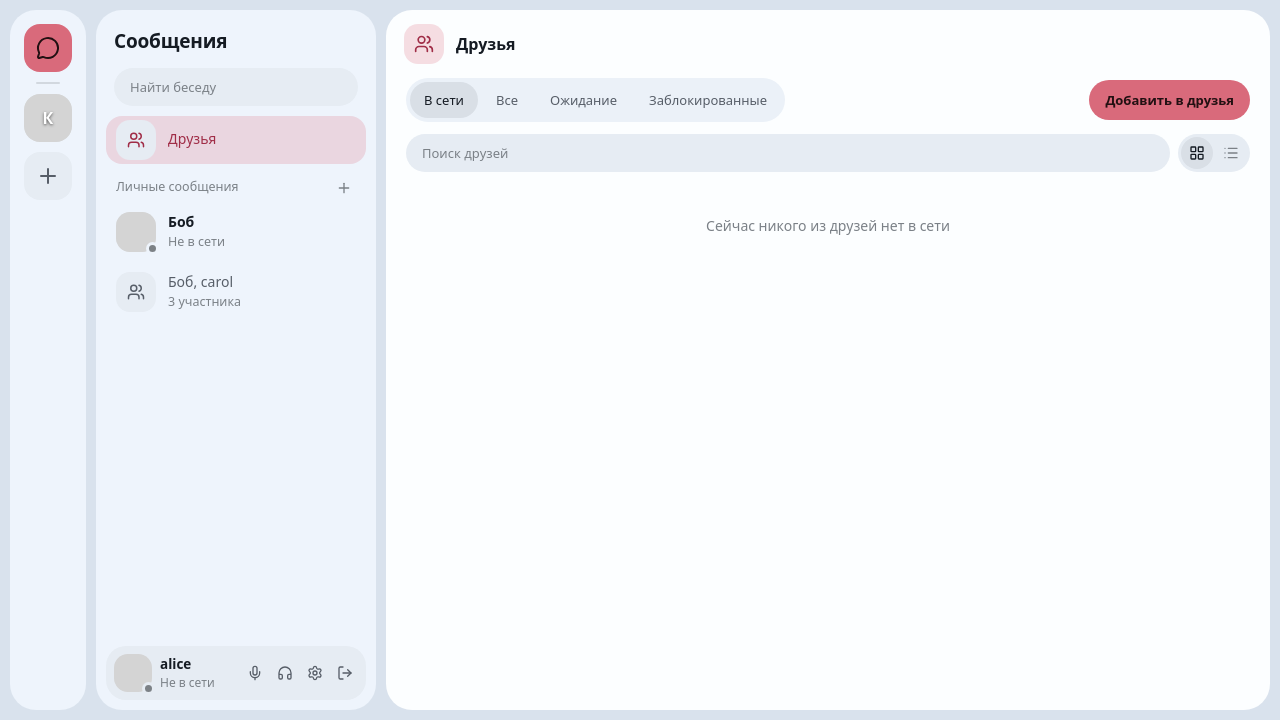
Test case: starting an encrypted conversation › opens nothing when the server answers with a plain one
The image size is (1280, 720).
Click the button named "Создать группу" at (344, 188), box x1=332 y1=176 x2=356 y2=200
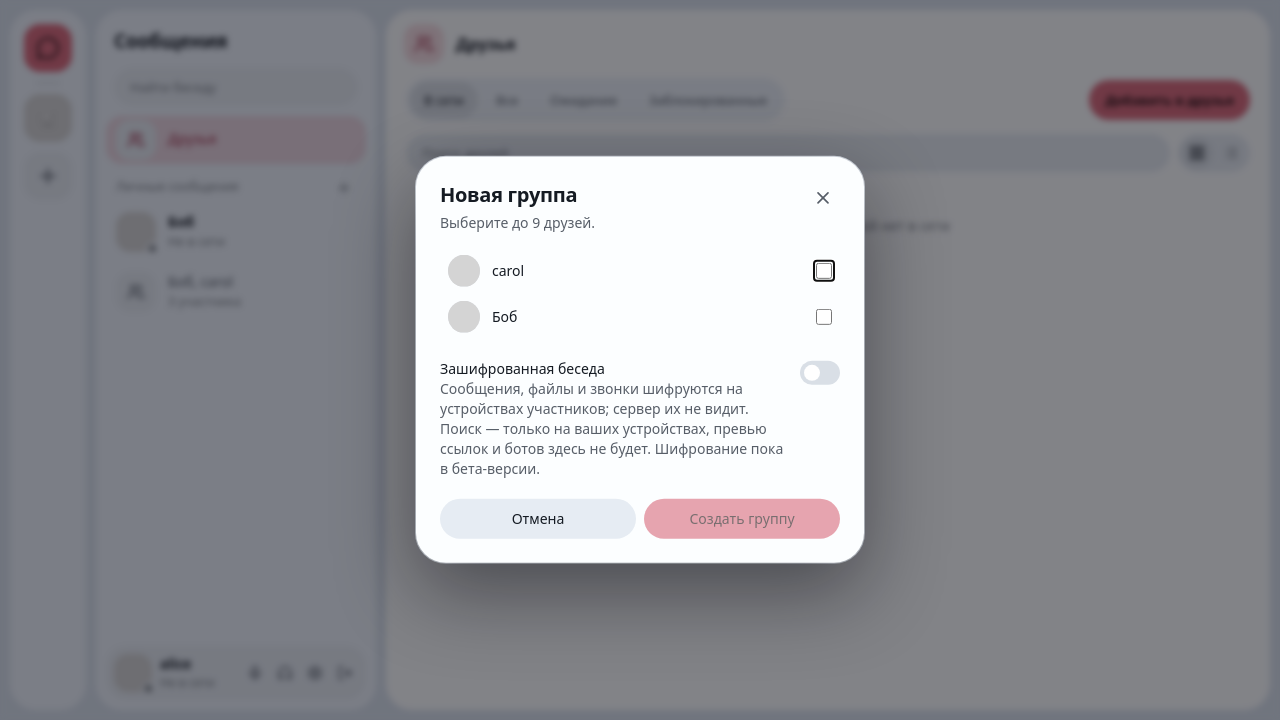
Click the checkbox labelled "Боб" at (824, 317), box x1=816 y1=309 x2=832 y2=325
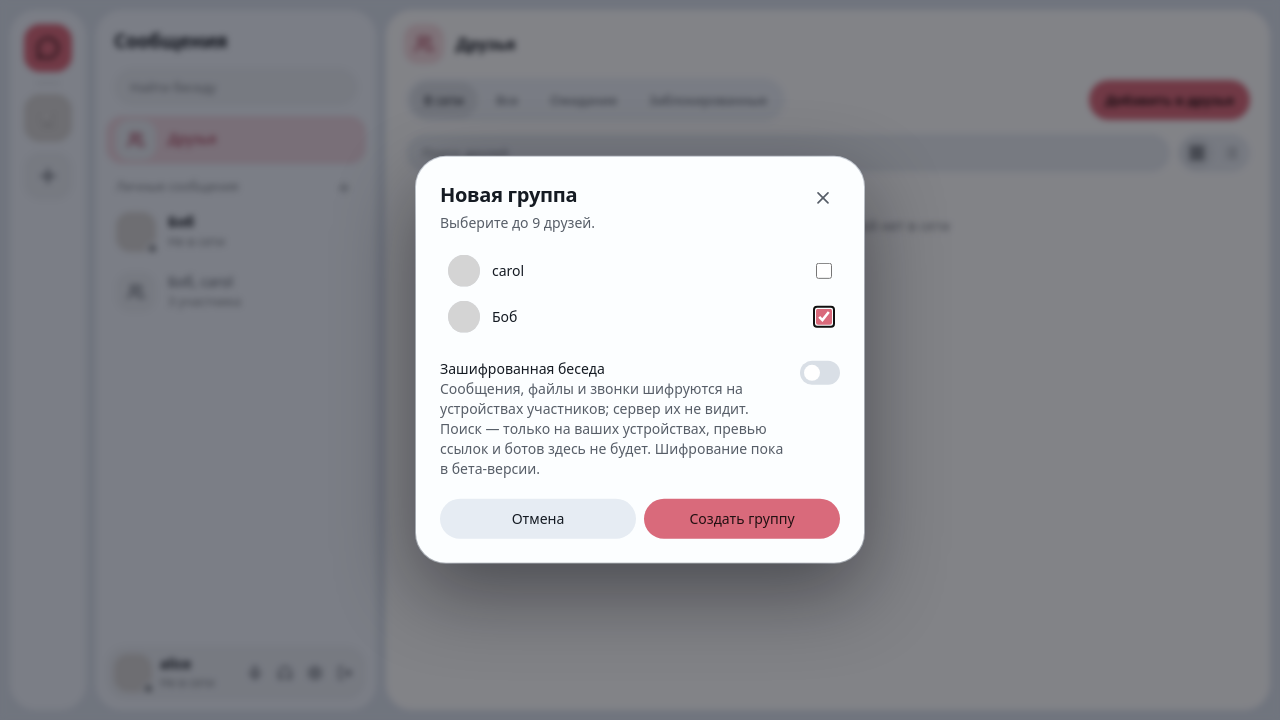
Click the checkbox labelled "carol" at (824, 271), box x1=816 y1=263 x2=832 y2=279
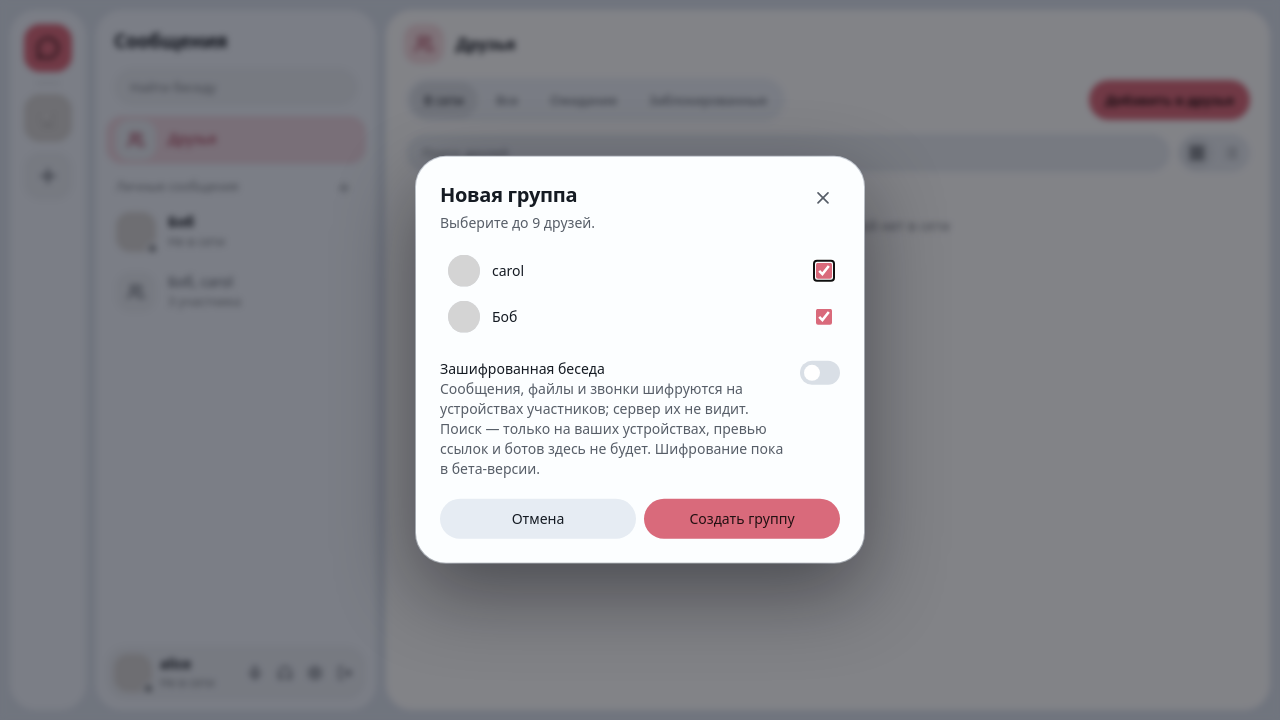
Click the switch named "Зашифрованная беседа" at (820, 373), box x1=800 y1=361 x2=840 y2=385
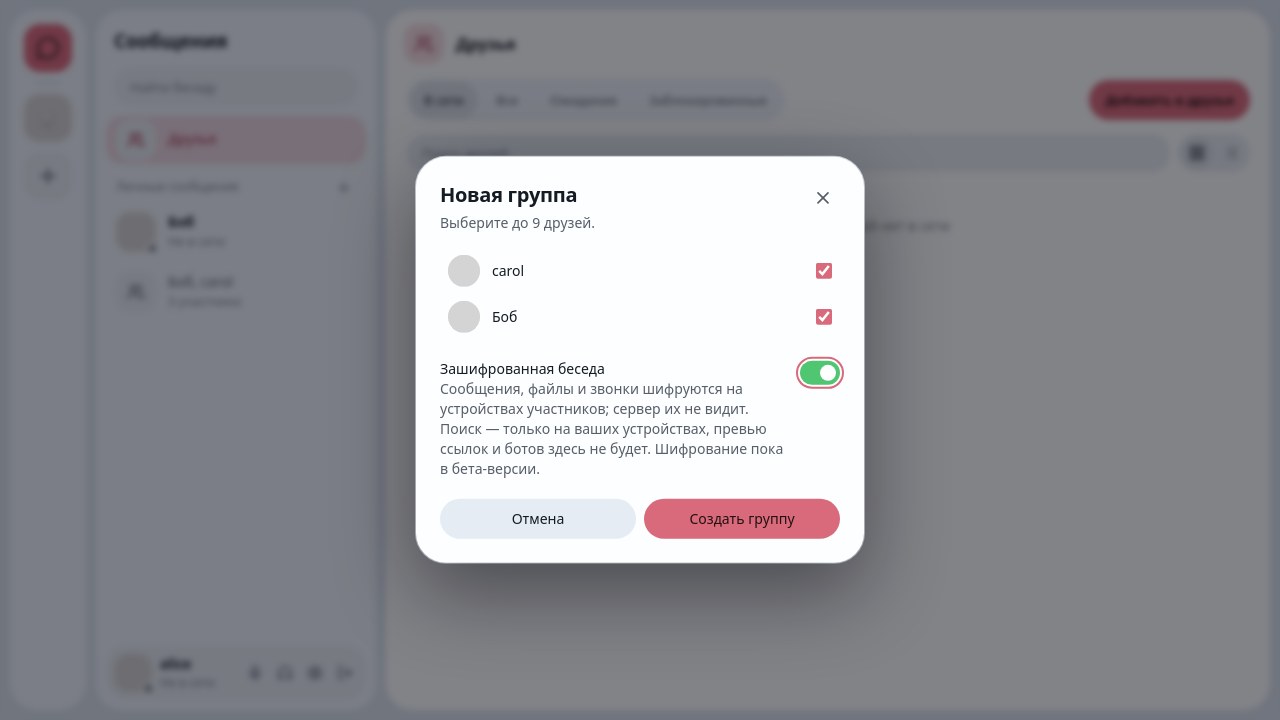
Click the button "Создать группу" at (742, 519), box x1=644 y1=499 x2=840 y2=539
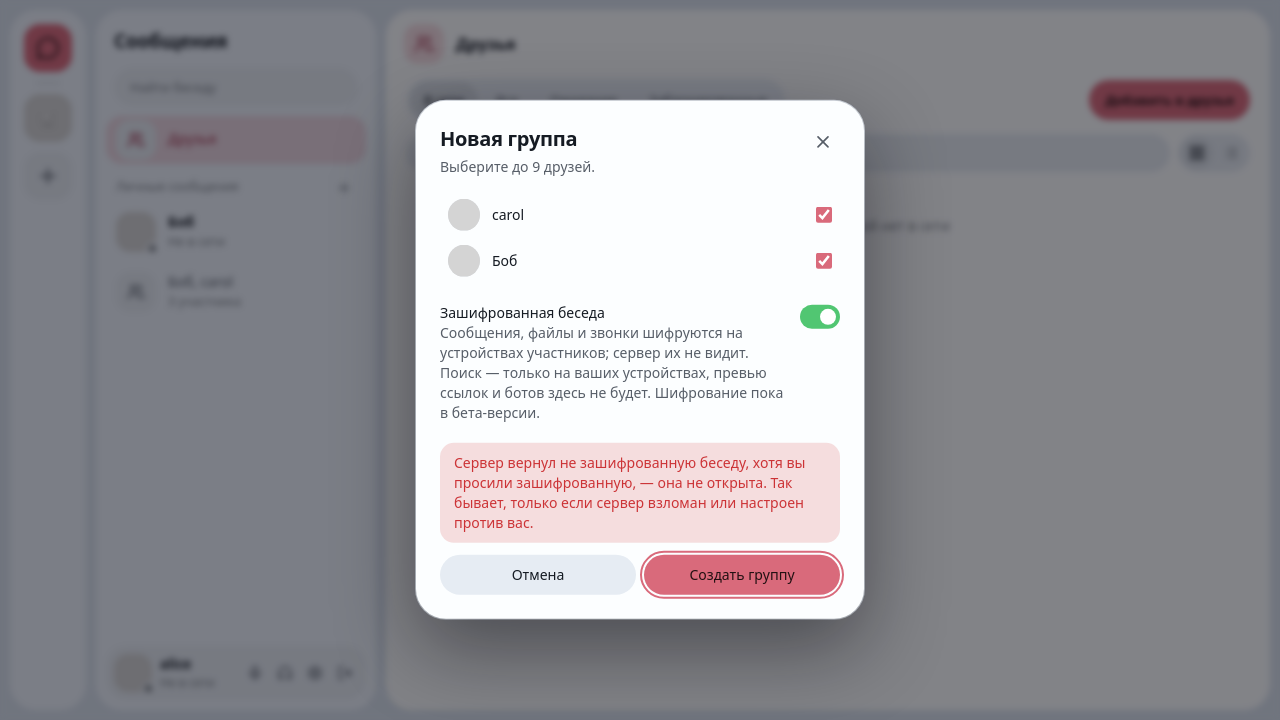
Check: the text "не зашифрованную" is shown, box x1=454 y1=453 x2=805 y2=532
